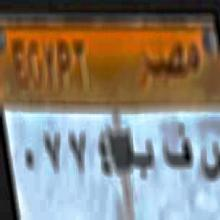0: (22, 140, 38, 178)
4: (96, 127, 111, 184)
7: (68, 122, 90, 181), (42, 127, 64, 179)
baa: (127, 135, 154, 180)
faa: (160, 118, 194, 174)
